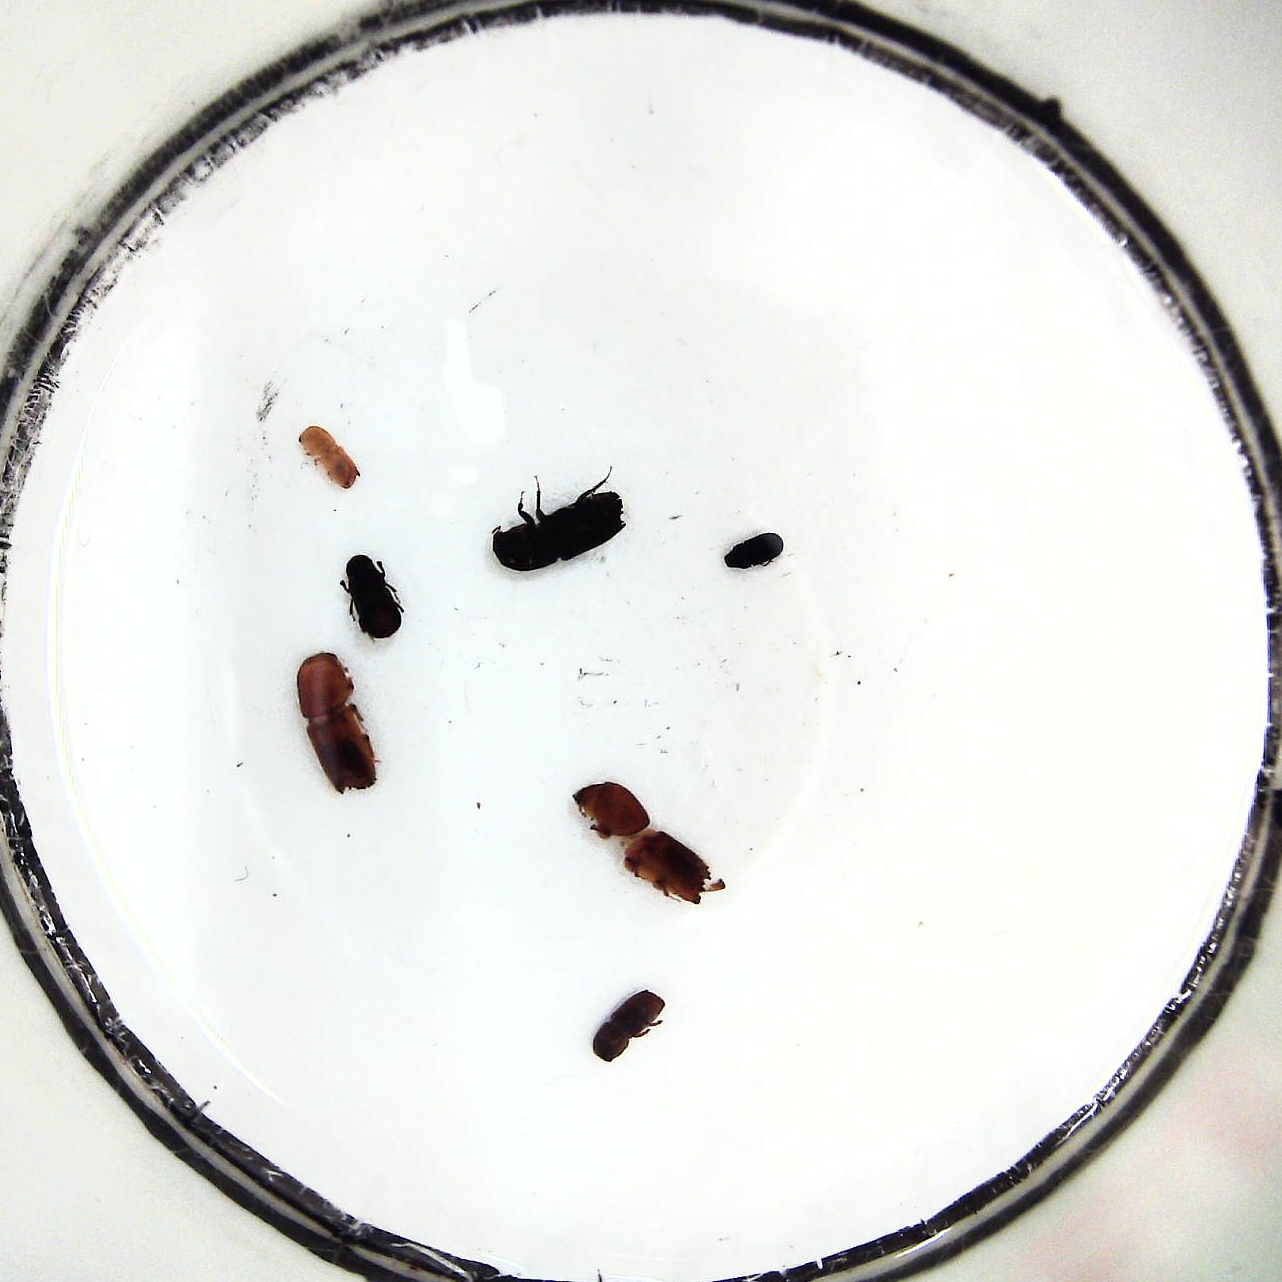Boerner: (571, 781, 711, 905), (490, 481, 628, 575), (296, 650, 378, 792)
Linnaeus: (591, 986, 666, 1064)
acuminatus: (295, 425, 360, 490)
armandi: (343, 553, 402, 640)
coleoptera: (720, 533, 785, 572)
